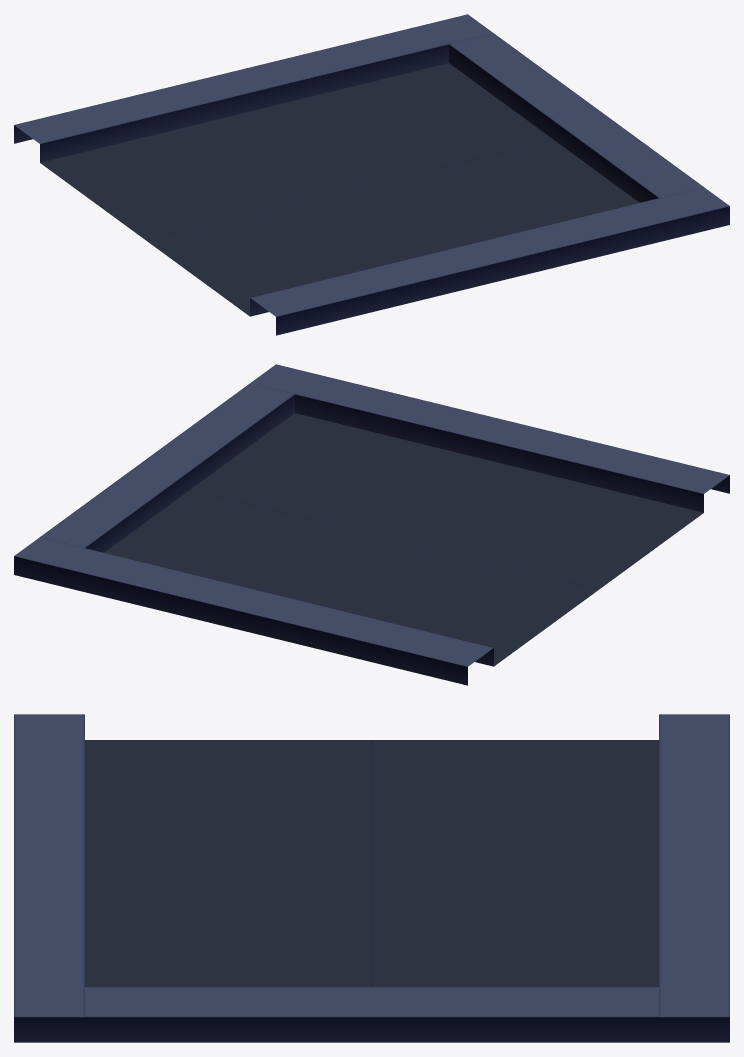
The model's file is road05.FBX.
The picture shows the model from 3 angles, top to bottom: view 1: azimuth 30°, elevation 25°; view 2: azimuth 150°, elevation 25°; view 3: azimuth 270°, elevation 25°; orthographic projection. The views are drawn at different scales.
Visible parts, largest first — view 1: Road05; view 2: Road05; view 3: Road05.
Boxes of the visible parts, x1,y1,x2,y2 form: Road05: (14,14,729,335); Road05: (14,364,729,685); Road05: (14,714,729,1042).
Bounding box in the file's own units: 1.01 × 1.01 × 0.04.
1 material, 1 textured.
